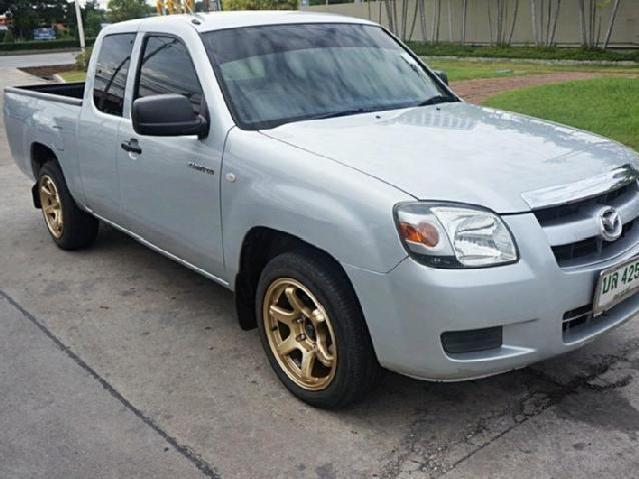pickup: (4, 8, 639, 408)
